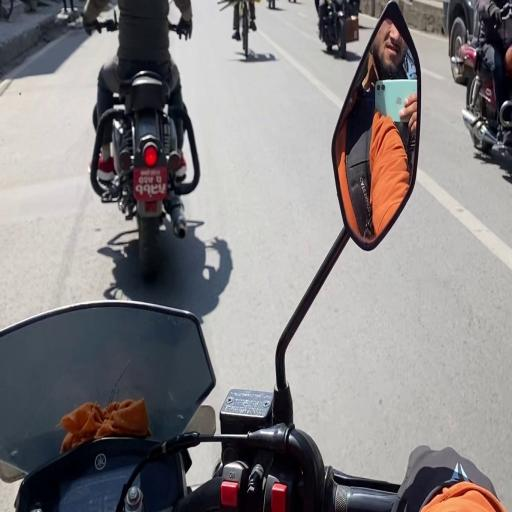license_plate: (133, 166, 168, 201), (133, 167, 167, 200)
